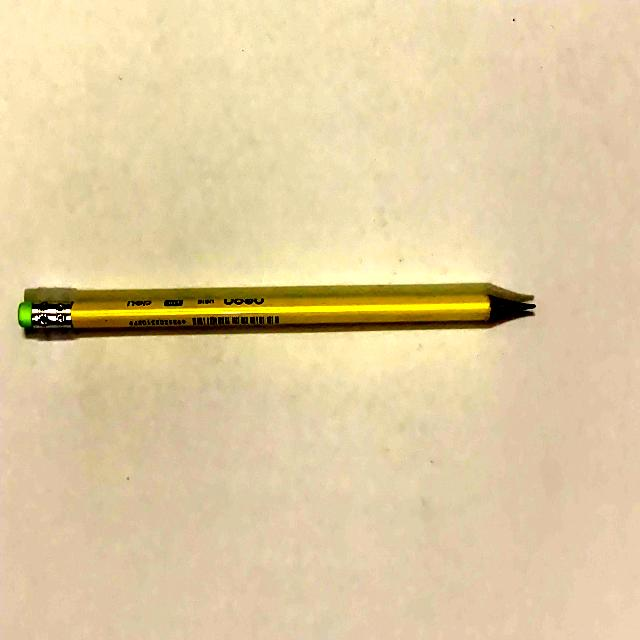Pencil: (14, 272, 544, 346)
